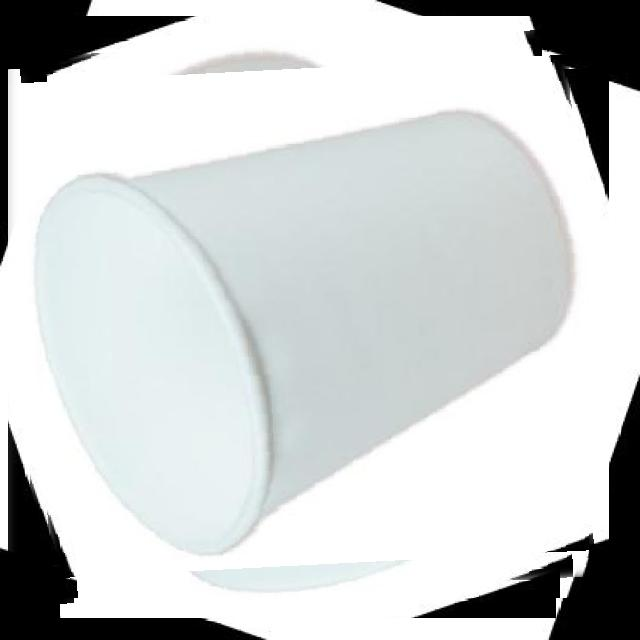non-biodegradable: (27, 36, 589, 598)
